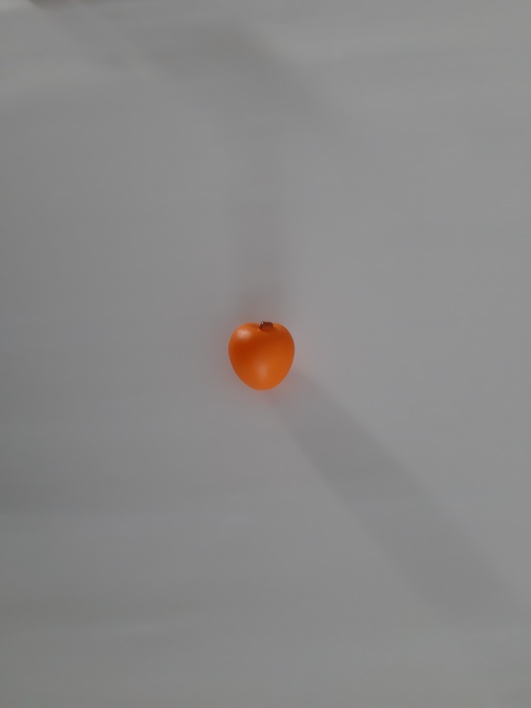apricot: (201, 301, 323, 419)
